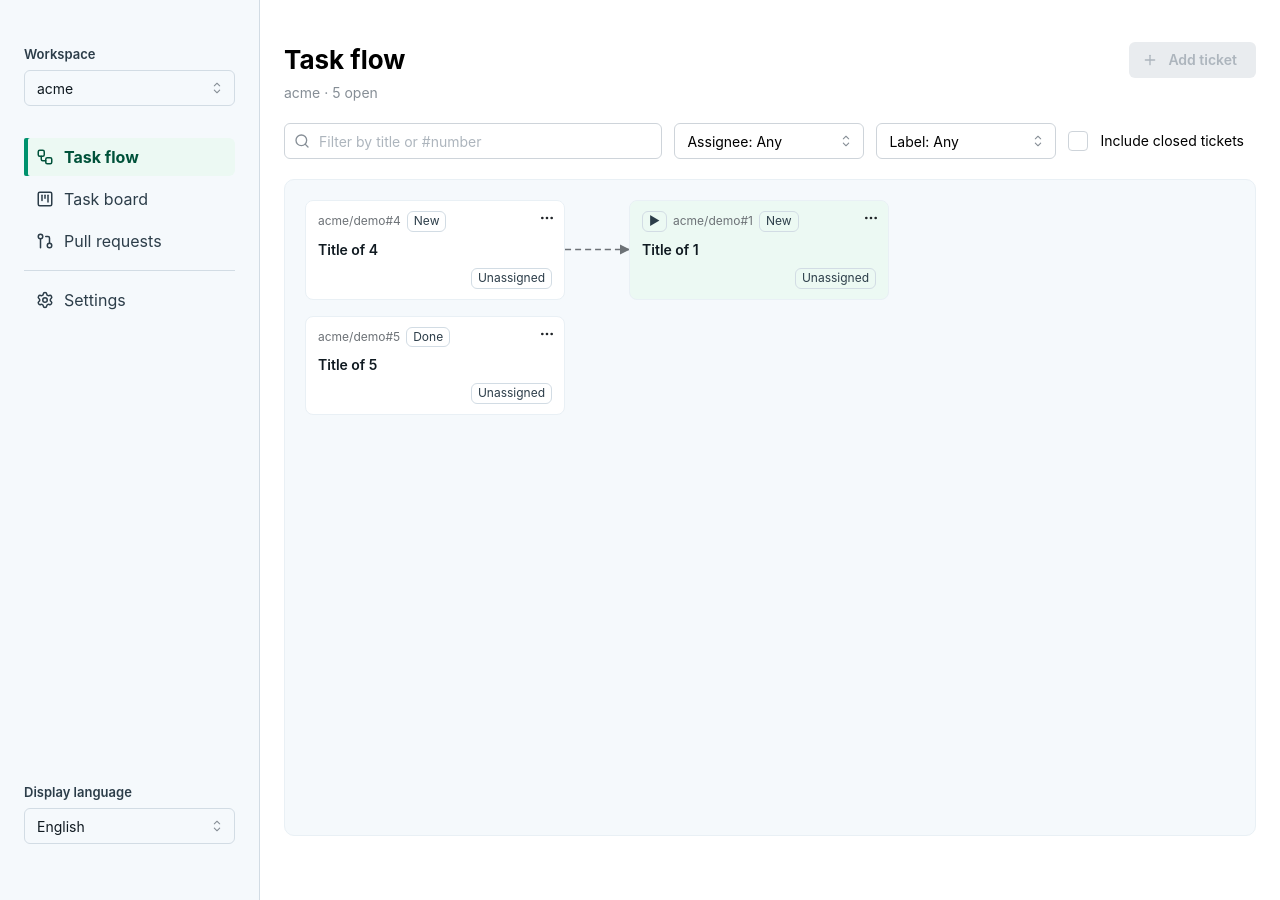
Test: relations › hides unrelated tickets and lines, shows no matches, and restores the figure after clearing the filter
In the field named "Text": (473, 141) [284,123,662,159], type "Title of 4"
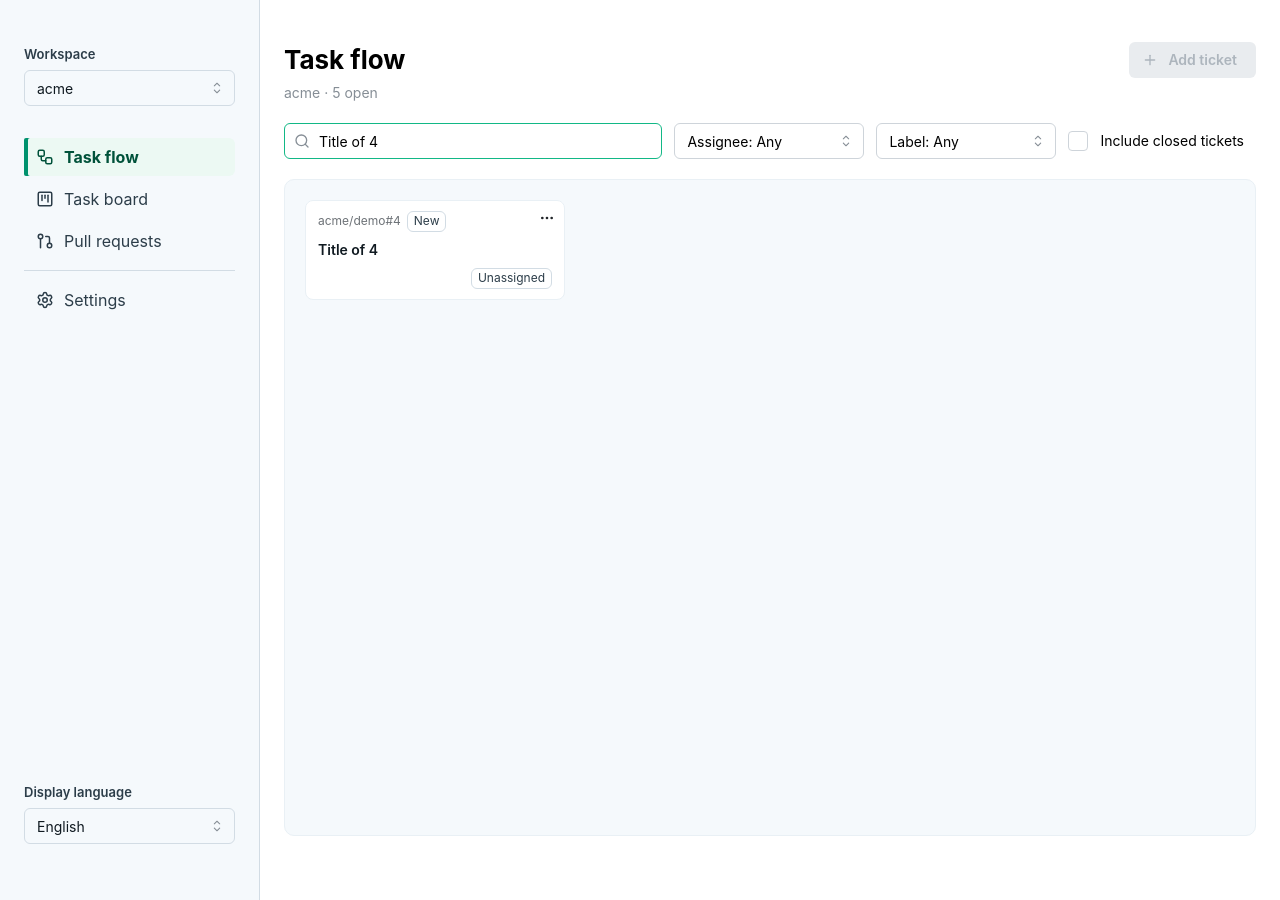
In the field named "Text": (473, 141) [284,123,662,159], type " absent"
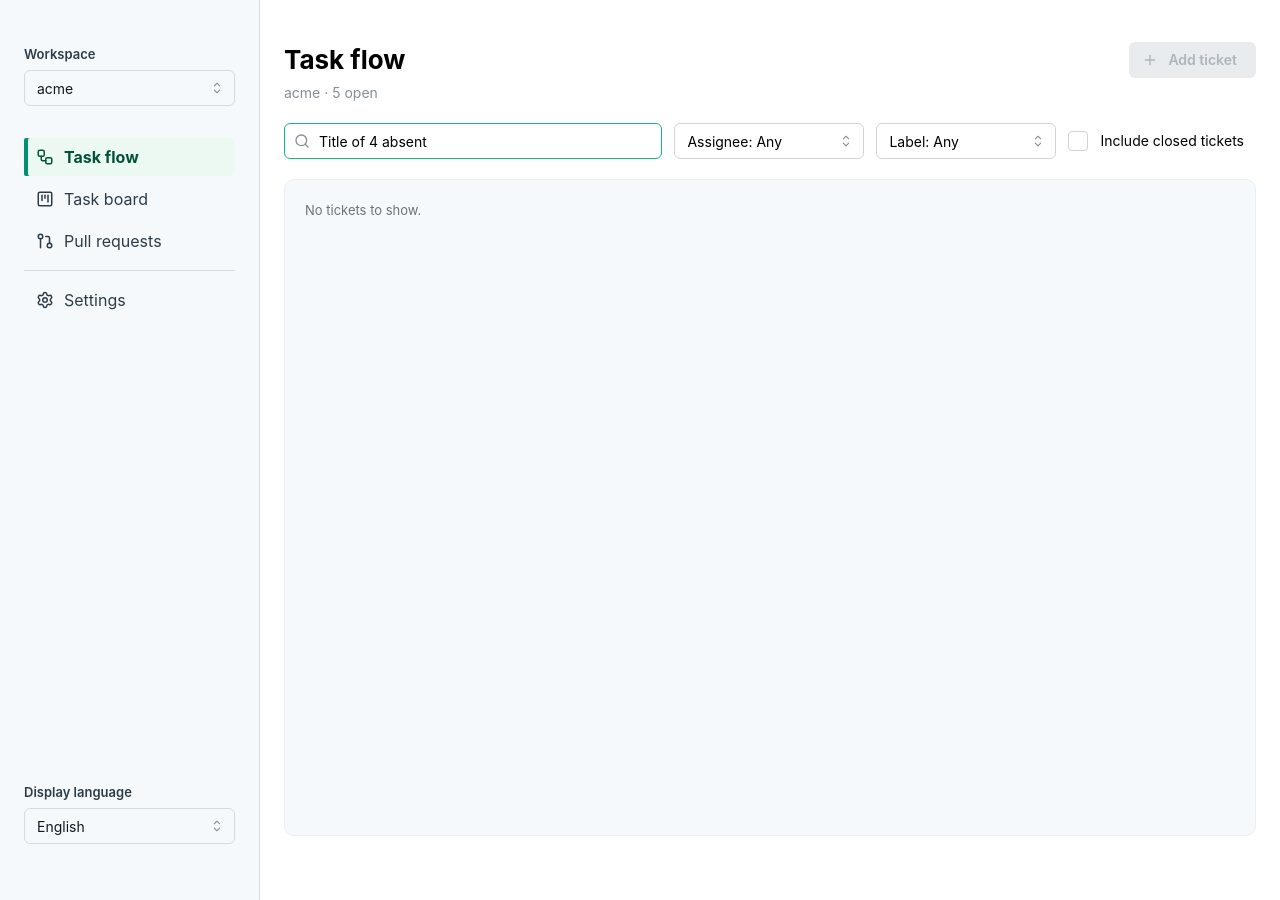
Expected: the text "No tickets to show." is shown, [305,202,421,218]
Clear the field named "Text": (473, 141) [284,123,662,159]
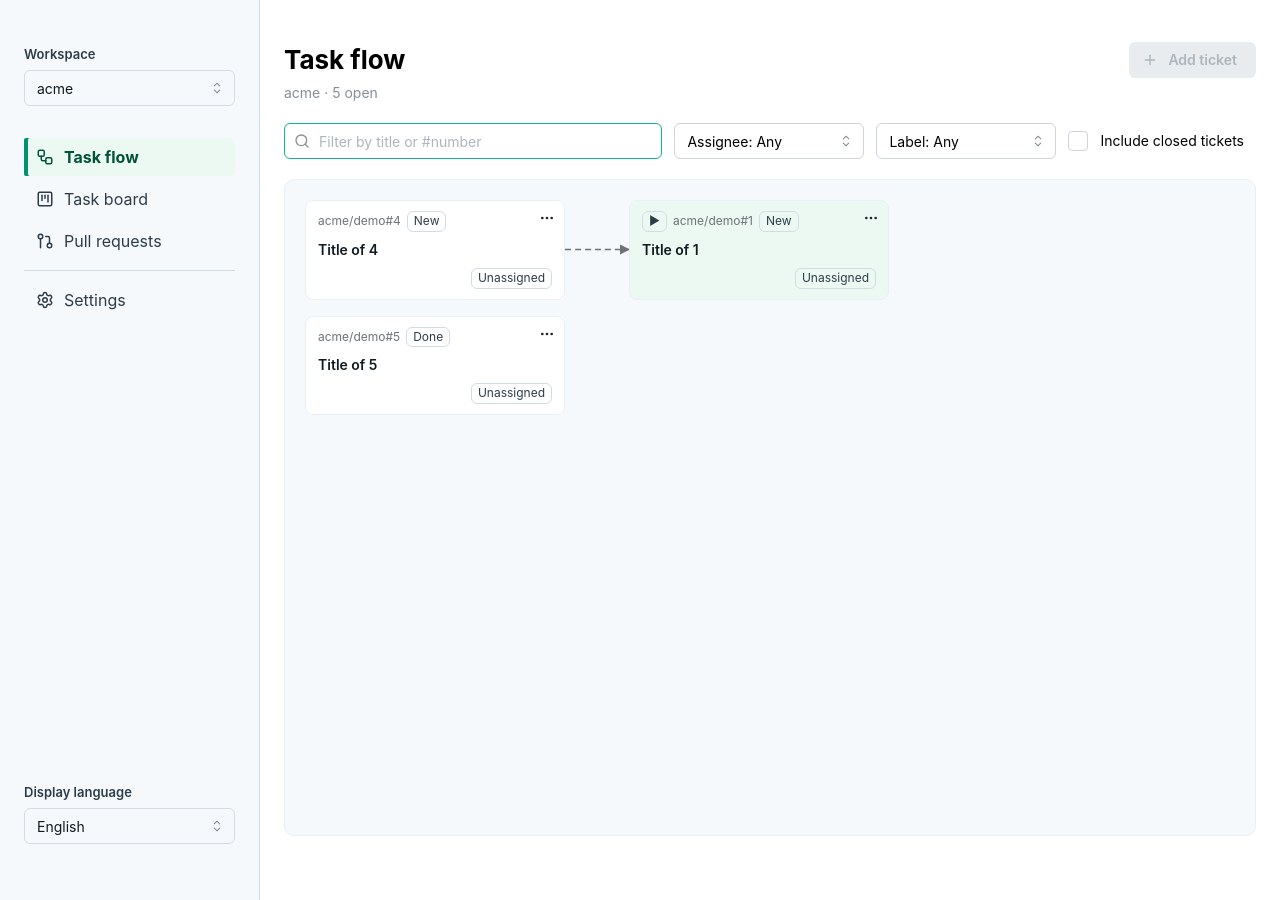
Expected: the element "▶ acme/demo#1 New Title of 1 Unassigned" is shown, [629,200,889,300]
